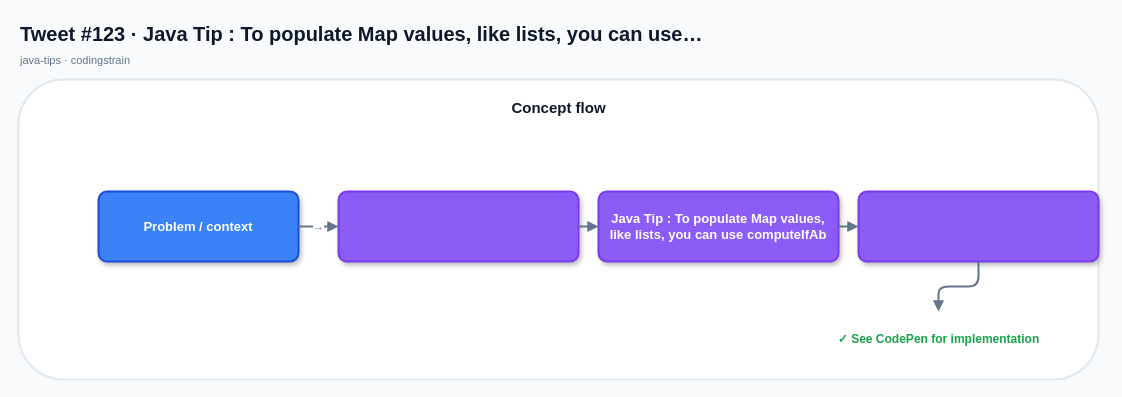
This 1122x397 diagram has some shape labels left out. The centre of each missing label's shape, as x and y in pixels:
"Runnable sample: `java-tips`" goes at (x=979, y=227).
"💡 Java Tip : To populate Map values, like lists, you can use computeIf" goes at (x=459, y=227).
